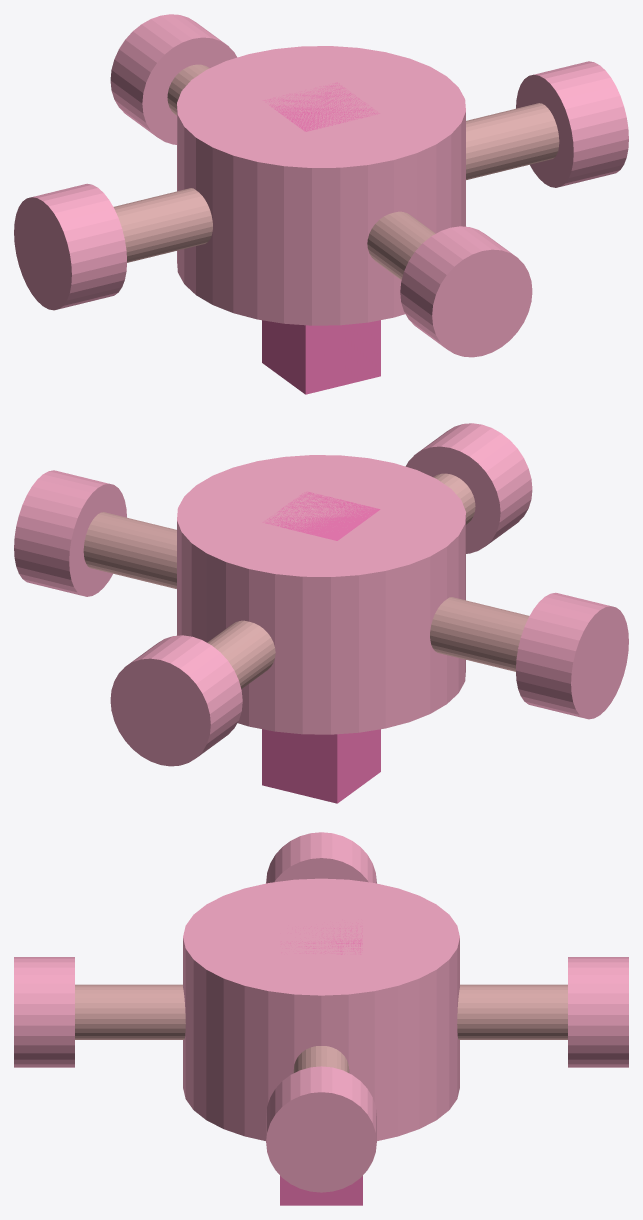
The model's file is button4.glb.
3 views of the same model, one above another, from view 1: azimuth 30°, elevation 25°; view 2: azimuth 150°, elevation 25°; view 3: azimuth 270°, elevation 25° (orthographic). The views are drawn at different scales.
Visible parts, largest first — view 1: 柱体, 柱体.005, 柱体.007, Cube, 柱体.006, 柱体.008, 柱体.003, 柱体.002, 柱体.004, 柱体.001; view 2: 柱体, 柱体.008, 柱体.007, Cube, 柱体.006, 柱体.005, 柱体.003, 柱体.002, 柱体.001, 柱体.004; view 3: 柱体, 柱体.006, 柱体.005, 柱体.008, 柱体.001, 柱体.004, 柱体.007, Cube, 柱体.003.
Part boxes in pixels (x1=…): 柱体: x1=177, y1=46, x2=465, y2=325; 柱体.005: x1=400, y1=226, x2=532, y2=357; 柱体.007: x1=14, y1=183, x2=126, y2=310; Cube: x1=262, y1=82, x2=380, y2=394; 柱体.006: x1=516, y1=61, x2=628, y2=187; 柱体.008: x1=110, y1=14, x2=237, y2=144; 柱体.003: x1=466, y1=103, x2=559, y2=179; 柱体.002: x1=113, y1=188, x2=212, y2=262; 柱体.004: x1=367, y1=211, x2=435, y2=279; 柱体.001: x1=167, y1=64, x2=209, y2=115; 柱体: x1=177, y1=455, x2=465, y2=734; 柱体.008: x1=110, y1=635, x2=242, y2=766; 柱体.007: x1=516, y1=592, x2=628, y2=719; Cube: x1=262, y1=491, x2=380, y2=803; 柱体.006: x1=14, y1=470, x2=126, y2=596; 柱体.005: x1=405, y1=423, x2=532, y2=553; 柱体.003: x1=83, y1=512, x2=176, y2=588; 柱体.002: x1=430, y1=597, x2=529, y2=671; 柱体.001: x1=207, y1=620, x2=275, y2=688; 柱体.004: x1=433, y1=473, x2=475, y2=524; 柱体: x1=183, y1=878, x2=459, y2=1140; 柱体.006: x1=266, y1=1066, x2=376, y2=1192; 柱体.005: x1=14, y1=957, x2=74, y2=1067; 柱体.008: x1=568, y1=957, x2=628, y2=1067; 柱体.001: x1=457, y1=984, x2=567, y2=1039; 柱体.004: x1=75, y1=984, x2=185, y2=1039; 柱体.007: x1=266, y1=832, x2=376, y2=883; Cube: x1=280, y1=922, x2=362, y2=1205; 柱体.003: x1=293, y1=1046, x2=349, y2=1072.
Size of the model in its own units: 2.22 by 1 by 2.22.
